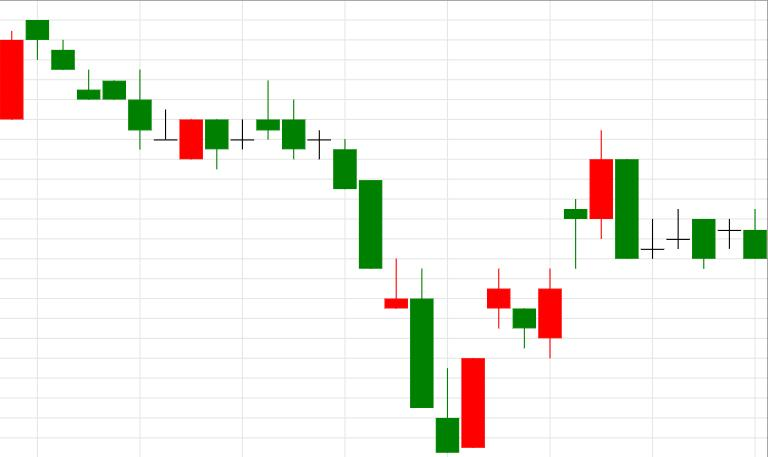inverse_hammer_rise: (257, 80, 458, 452)
